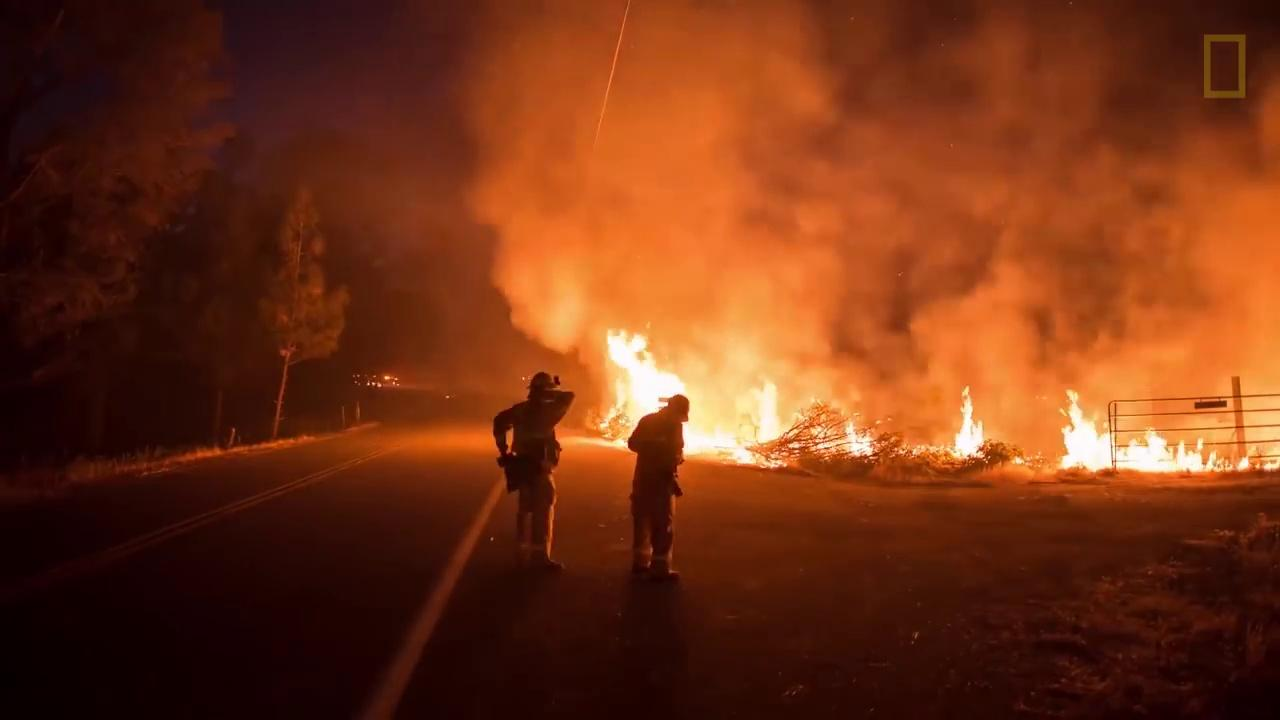Fire: (1049, 394, 1277, 476), (688, 348, 807, 471), (591, 321, 677, 448), (944, 385, 992, 460), (840, 416, 880, 459)
